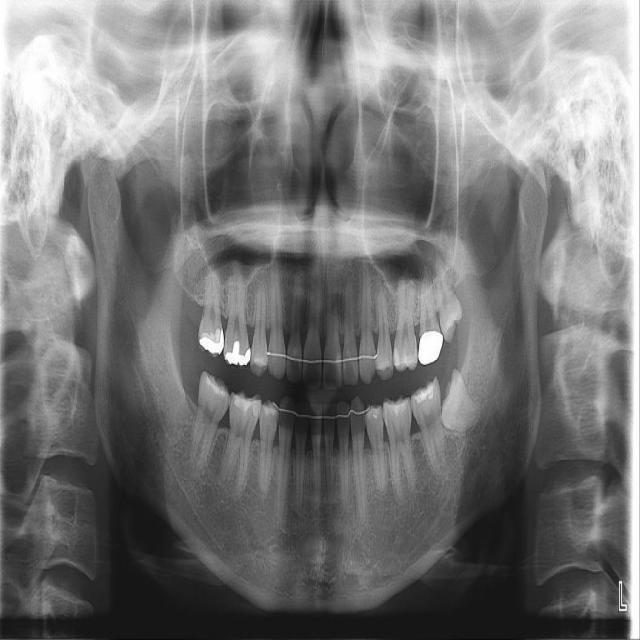52: (185, 370, 239, 423), (408, 375, 444, 431), (223, 387, 265, 434), (381, 392, 417, 440), (195, 311, 228, 359), (417, 313, 444, 366), (222, 325, 253, 369), (391, 328, 419, 374), (323, 339, 342, 391), (258, 398, 279, 442), (343, 339, 359, 385), (286, 337, 302, 382)
73: (604, 560, 610, 572)
BioHorizons Implant: (417, 260, 447, 365)
BioLife Implant: (431, 248, 466, 344)
Biomet 3i Implant: (434, 367, 492, 437)
Blue Sky Bio Implant: (408, 376, 449, 480)
Caries: (196, 253, 224, 357)
Implant: (188, 370, 233, 472)
